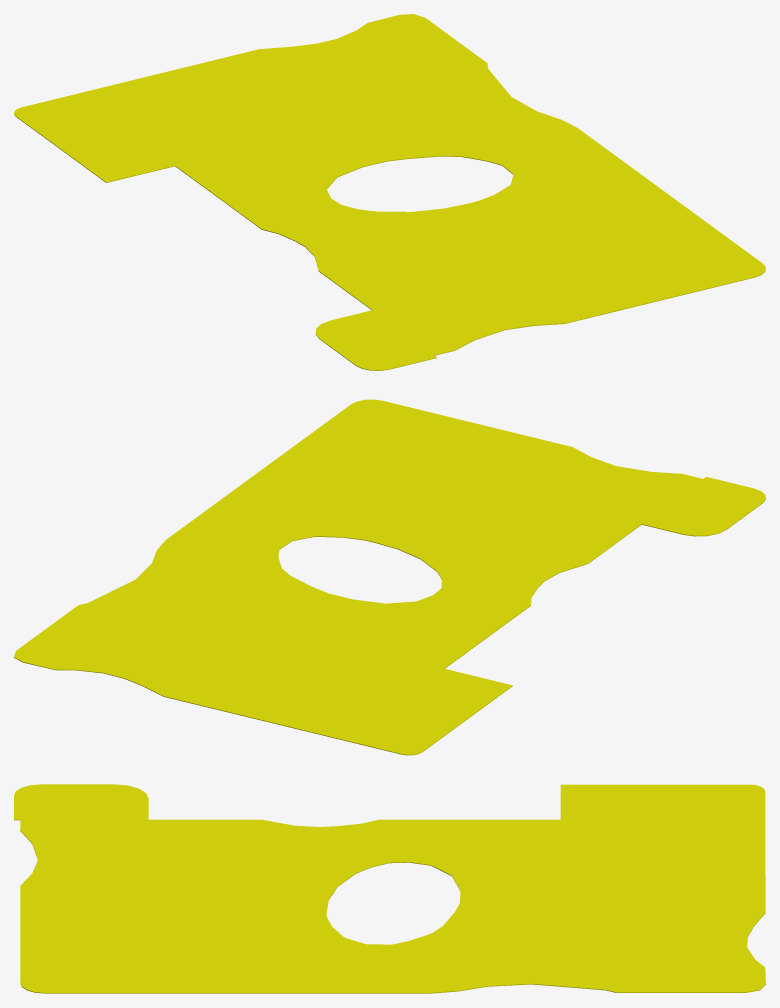
File: sm_hana_building_3f_ceiling.glb
3 views of the same model, one above another, from view 1: azimuth 30°, elevation 25°; view 2: azimuth 150°, elevation 25°; view 3: azimuth 270°, elevation 25° (orthographic). The views are drawn at different scales.
Parts seen in each view (by area): view 1: sm_hana_building_3f_ceiling; view 2: sm_hana_building_3f_ceiling; view 3: sm_hana_building_3f_ceiling.
Part boxes in pixels (<box>): sm_hana_building_3f_ceiling: <box>14,14,765,370</box>; sm_hana_building_3f_ceiling: <box>14,399,765,755</box>; sm_hana_building_3f_ceiling: <box>14,784,765,993</box>.
Bounding box in the file's own units: 64.55 × 0.1021 × 98.43.
Materials: 1 (1 with a texture image).
